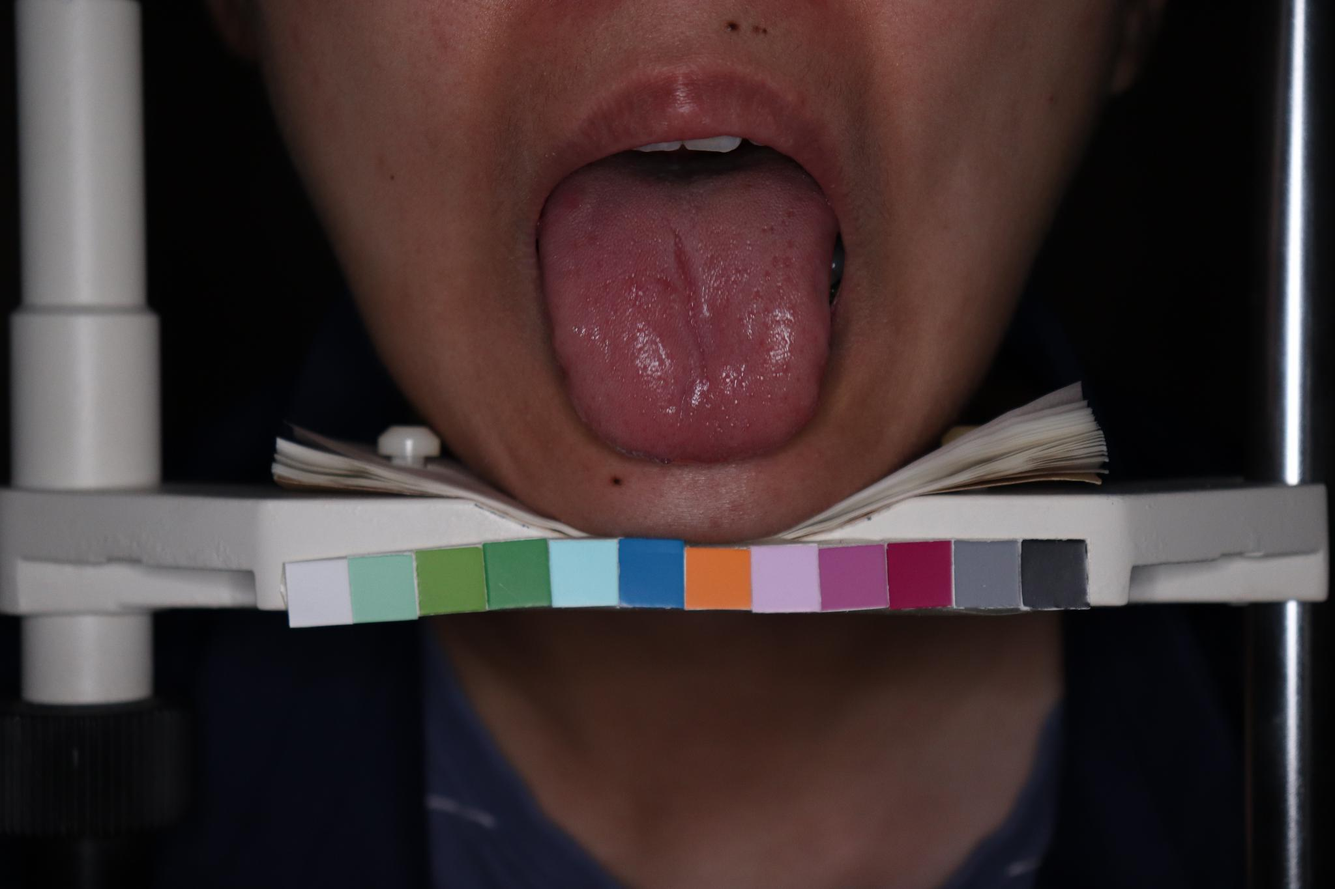baitaishe: (539, 164, 833, 466)
liewenshe: (666, 225, 712, 380)
